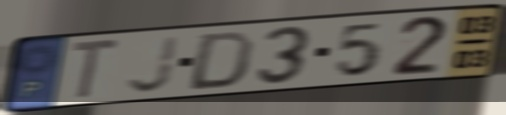2: (390, 13, 452, 78)
3: (253, 24, 316, 87)
5: (332, 19, 388, 79)
D: (183, 29, 258, 92)
J: (123, 33, 183, 96)
T: (68, 36, 123, 103)
